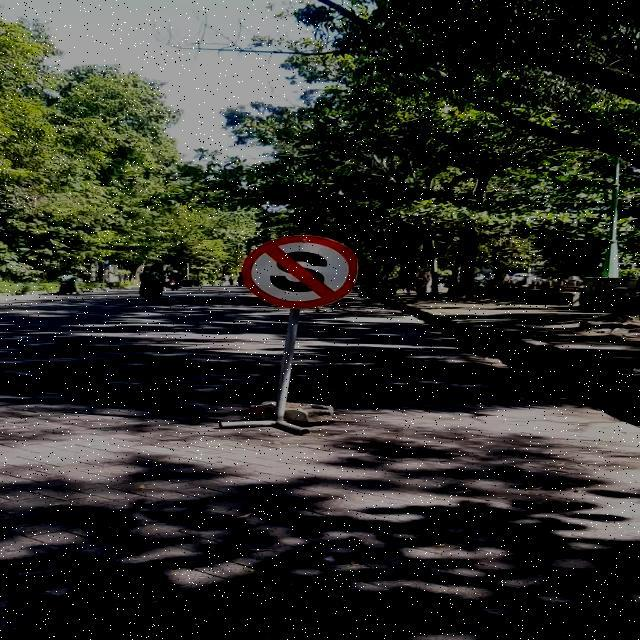Dilarang Berhenti: (240, 235, 358, 309)
